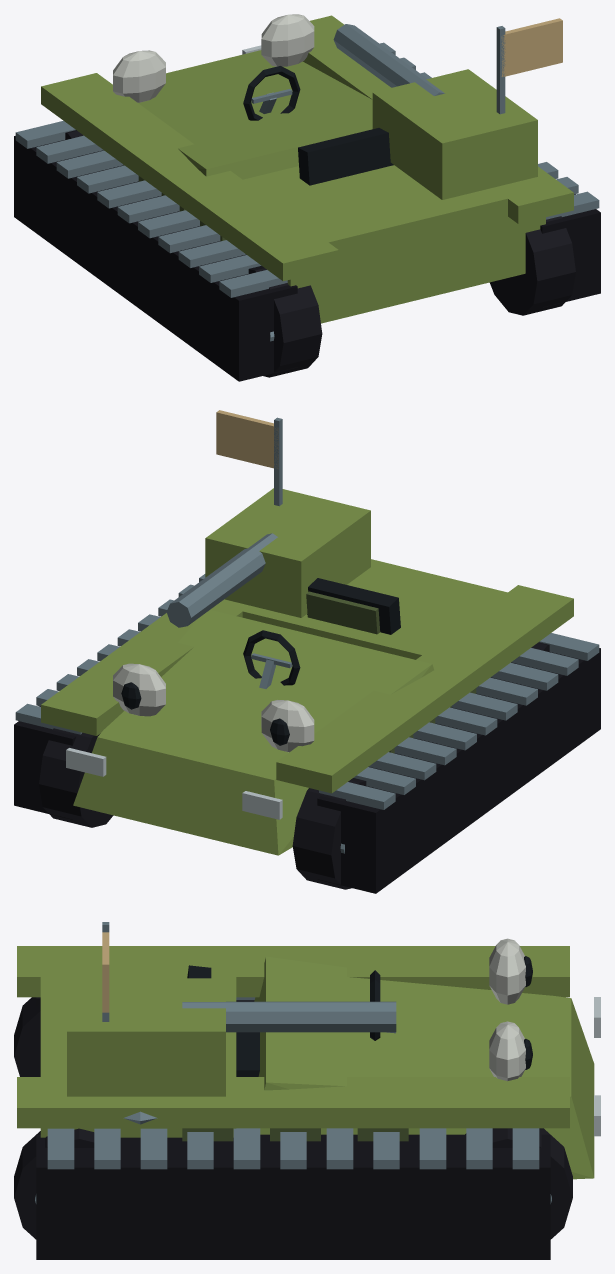
File: kart.glb
3 views of the same model, one above another, from view 1: azimuth 30°, elevation 25°; view 2: azimuth 150°, elevation 25°; view 3: azimuth 270°, elevation 25° (orthographic). The views are drawn at different scales.
Visible parts, largest first — view 1: identity-tank-tank-armored-hull, identity-tank-tank-full-length-tracks, identity-tank-driver-cockpit, wheel-rear-right, identity-tank-motif-eyes, wheel-rear-left, identity-tank-motif-flag; view 2: identity-tank-tank-armored-hull, identity-tank-tank-full-length-tracks, identity-tank-driver-cockpit, identity-tank-motif-eyes, wheel-front-left, wheel-front-right, identity-tank-motif-flag; view 3: identity-tank-tank-armored-hull, identity-tank-tank-full-length-tracks, identity-tank-motif-eyes, wheel-front-right, wheel-rear-right, wheel-rear-left, identity-tank-driver-cockpit, identity-tank-motif-flag.
Part boxes in pixels (x1,y1,x2,y2): identity-tank-tank-armored-hull: (41,15,573,323); identity-tank-tank-full-length-tracks: (14,42,600,381); identity-tank-driver-cockpit: (243,66,393,185); wheel-rear-right: (489,216,575,315); identity-tank-motif-eyes: (113,14,314,102); wheel-rear-left: (248,265,322,377); identity-tank-motif-flag: (496,18,562,114); identity-tank-tank-armored-hull: (41,488,573,855); identity-tank-tank-full-length-tracks: (14,574,600,893); identity-tank-driver-cockpit: (243,578,400,688); identity-tank-motif-eyes: (113,663,314,752); wheel-front-left: (292,778,366,889); wheel-front-right: (39,728,113,827); identity-tank-motif-flag: (216,410,282,506); identity-tank-tank-armored-hull: (17,946,600,1179); identity-tank-tank-full-length-tracks: (36,997,550,1259); identity-tank-motif-eyes: (489,938,532,1081); wheel-front-right: (465,1128,572,1239); wheel-rear-right: (14,1128,94,1239); wheel-rear-left: (14,997,40,1076); identity-tank-driver-cockpit: (187,965,395,1076); identity-tank-motif-flag: (102,922,109,1021).
Size of the model in its own units: 2.38 by 1.7 by 2.88.
